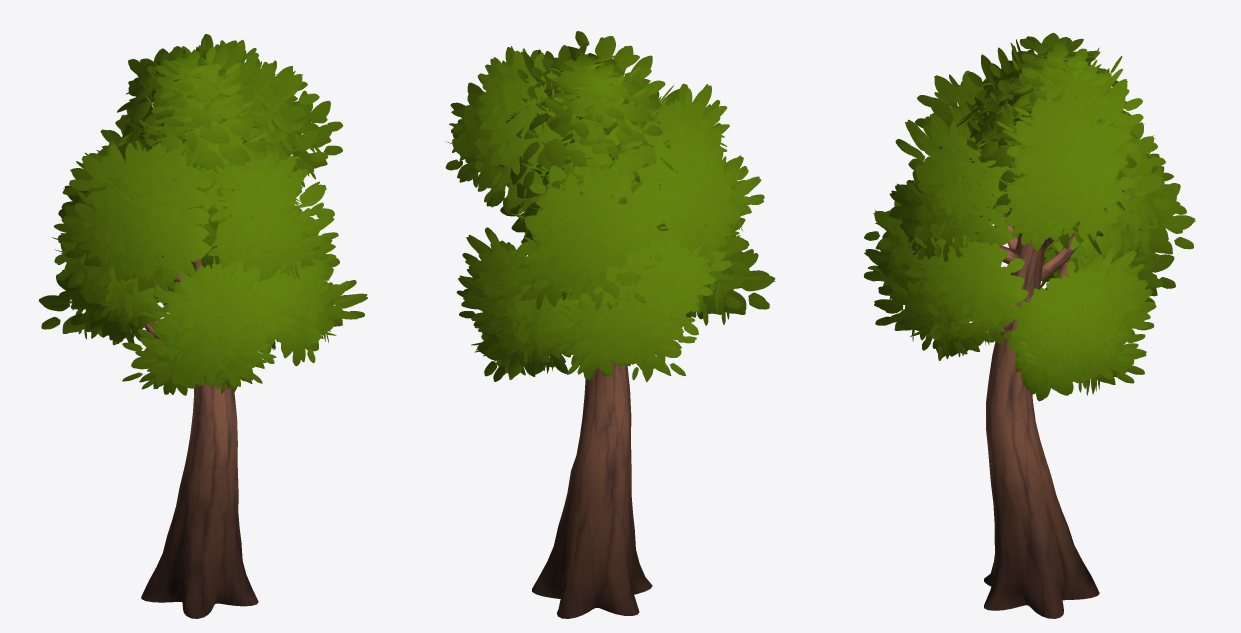
The model's file is n_CommonTree_1.glb.
3 renders of one model, left to right at view 1: azimuth 30°, elevation 25°; view 2: azimuth 150°, elevation 25°; view 3: azimuth 270°, elevation 25°, orthographic. The views are drawn at different scales.
Visible parts, largest first — view 1: CommonTree_1; view 2: CommonTree_1; view 3: CommonTree_1.
Part boxes in pixels (x1=…): CommonTree_1: x1=38, y1=34, x2=367, y2=618; CommonTree_1: x1=445, y1=31, x2=775, y2=618; CommonTree_1: x1=863, y1=33, x2=1196, y2=618.
Size of the model in its own units: 4.31 by 7.26 by 4.58.
2 materials, 2 textured.
